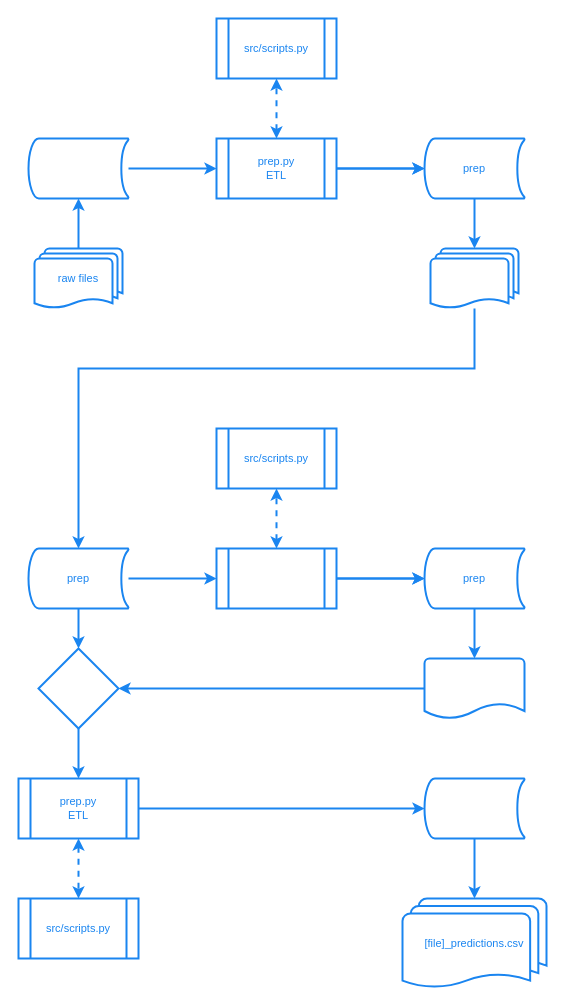
This 564x1006 diagram has some shape labels left out. Here are the shapes that lost their labels. From the top down, the centre of each, then its label:
At (78,168): "raw".
At (474,278): "clean files".
At (276,578): "train.py".
At (474,688): "train_model.joblib".
At (474,808): "predictions".
